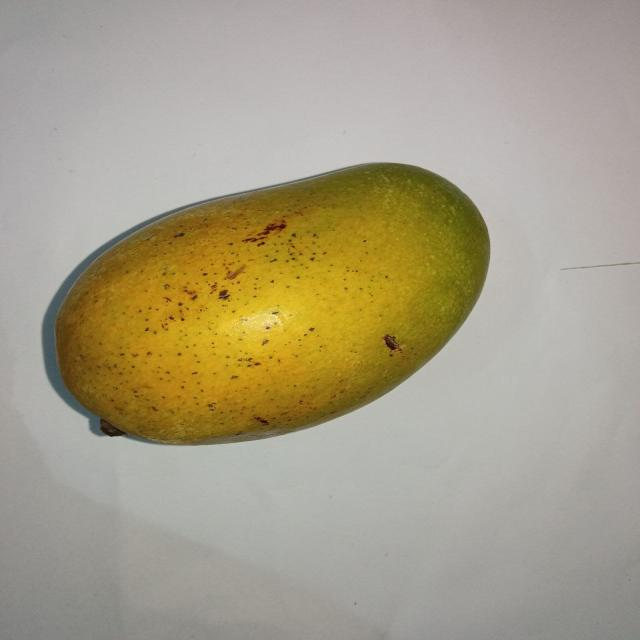fresh_mango: (53, 160, 490, 448)
